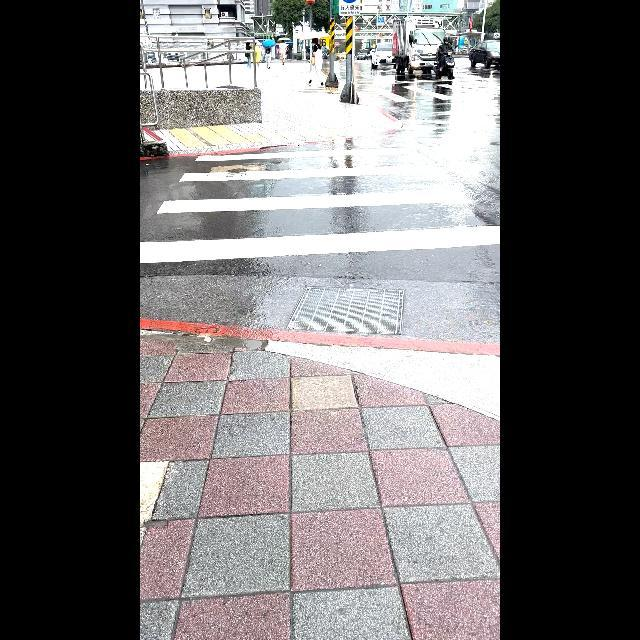sidewalk: (140, 128, 500, 355)
